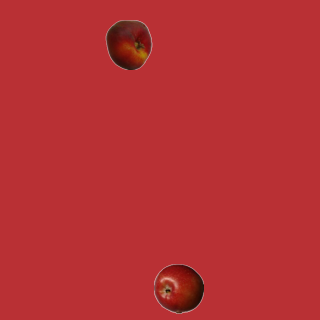Apple Braeburn: (153, 263, 203, 313)
Nectarine Flat: (103, 19, 153, 69)
